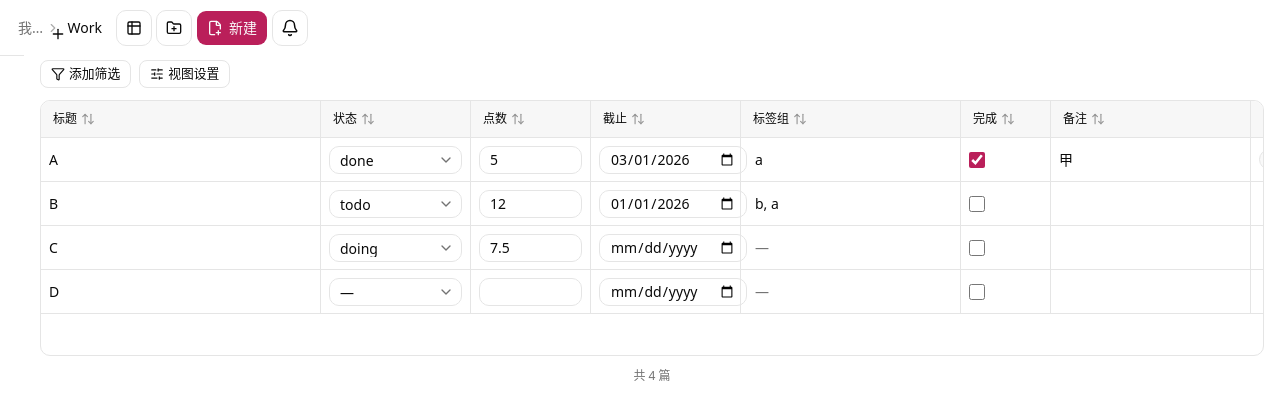
Scenario: the table › sorts by a column when its header is clicked, and the other way round when it is clicked again
The width and height of the screenshot is (1280, 398).
Later steps or results of the test are not shown.
Press the mouse on the button "点数" at (504, 119), box top-left (483, 111), bottom-right (525, 127)
Click the button "点数".
click(504, 119)  # box top-left (483, 111), bottom-right (525, 127)
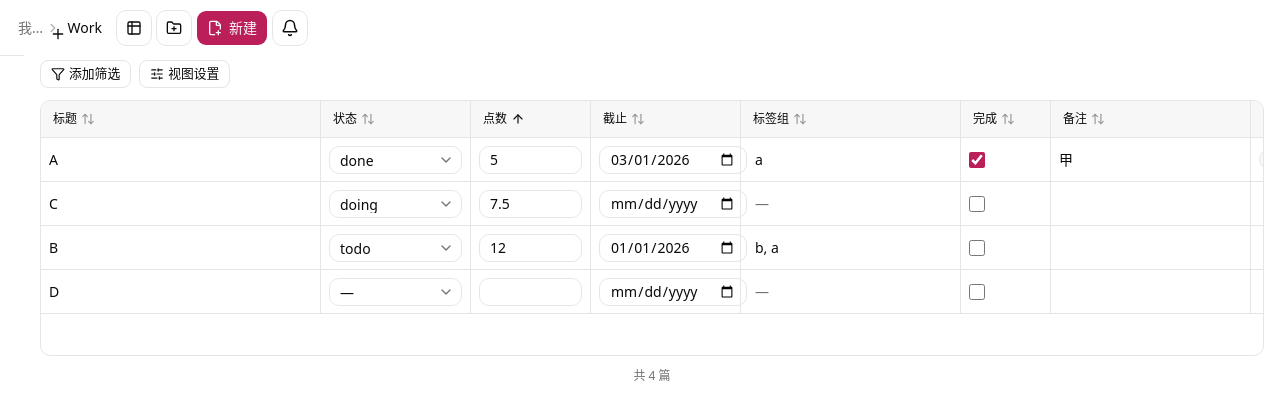
Expected: the column heading "点数" has attribute aria-sort="ascending", top-left (471, 101), bottom-right (591, 137)
Press the mouse on the button "点数" at (504, 119), box top-left (483, 111), bottom-right (525, 127)
Click the button "点数".
click(504, 119)  # box top-left (483, 111), bottom-right (525, 127)
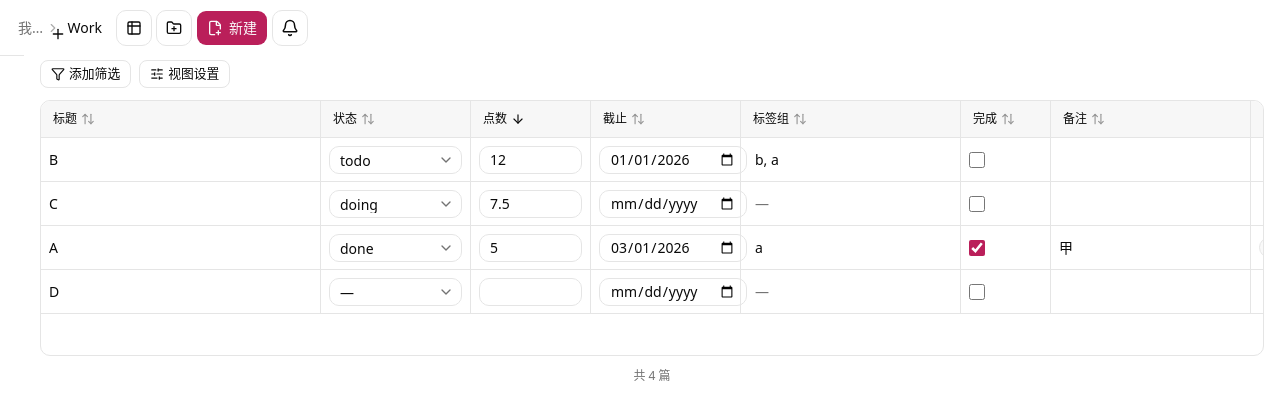
Expected: the column heading "点数" has attribute aria-sort="descending", top-left (471, 101), bottom-right (591, 137)
